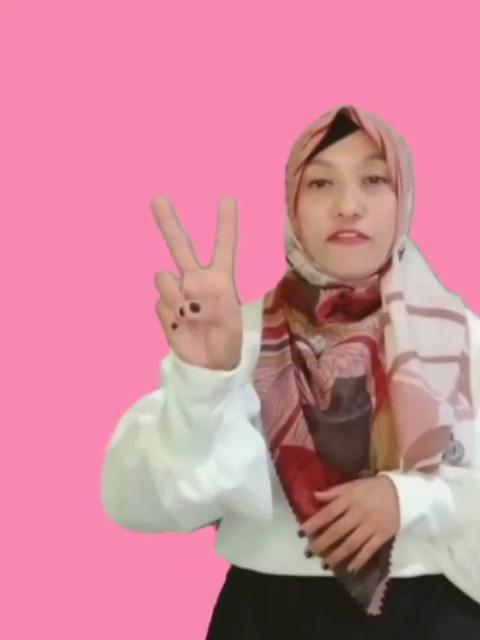V: (136, 189, 260, 365)
